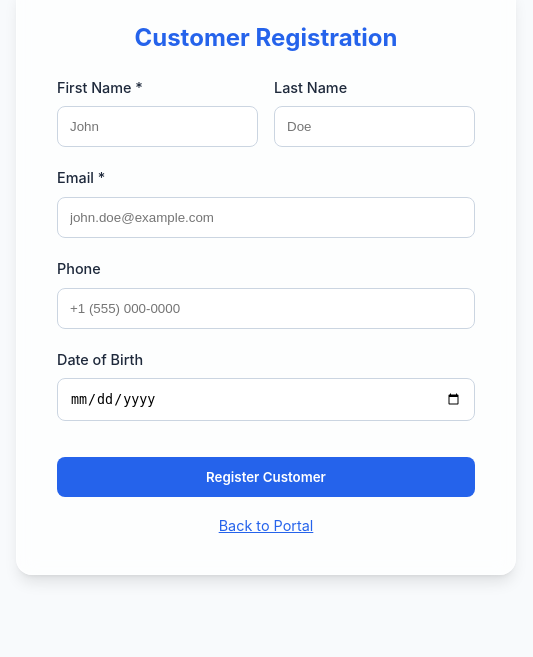
Test: CustomerRegistrationForm › should show error if required fields are empty
Click the button "Register Customer": click(266, 478) [57,458,475,498]
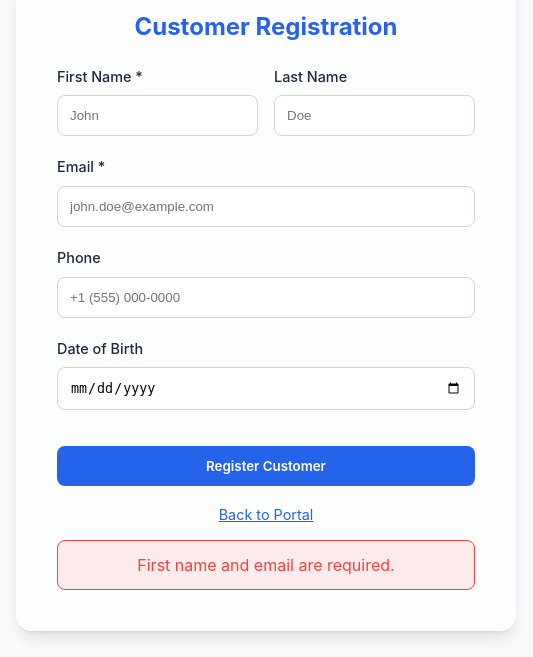
Now the text "First name and email are required." is shown, box [57,540,475,590]
